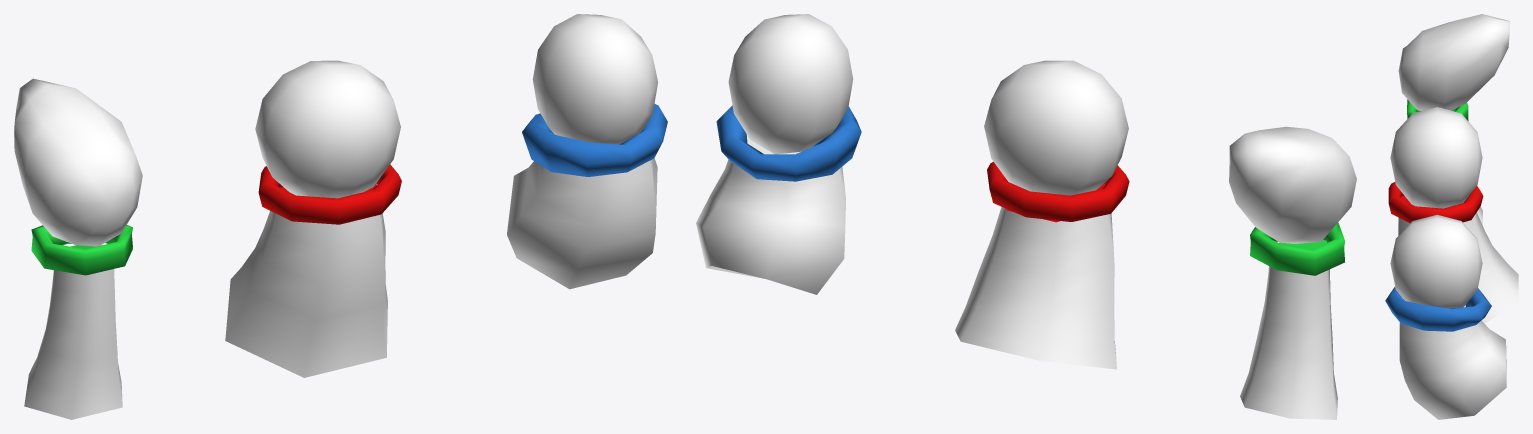
3 renders of one model, left to right at view 1: azimuth 30°, elevation 25°; view 2: azimuth 150°, elevation 25°; view 3: azimuth 270°, elevation 25°, orthographic. The views are drawn at different scales.
Parts seen in each view (by area): view 1: Cone001 (×2), Cone002; view 2: Cone001 (×2), Cone002; view 3: Cone001 (×2), Cone002.
Boxes of the visible parts, <box> form: Cone001 (×2): <box>14,60,401,419</box>; Cone002: <box>507,14,667,289</box>; Cone001 (×2): <box>955,60,1356,419</box>; Cone002: <box>696,14,861,294</box>; Cone001 (×2): <box>1388,14,1518,323</box>; Cone002: <box>1385,214,1506,419</box>.
Size of the model in its own units: 114 by 51.37 by 28.76.
